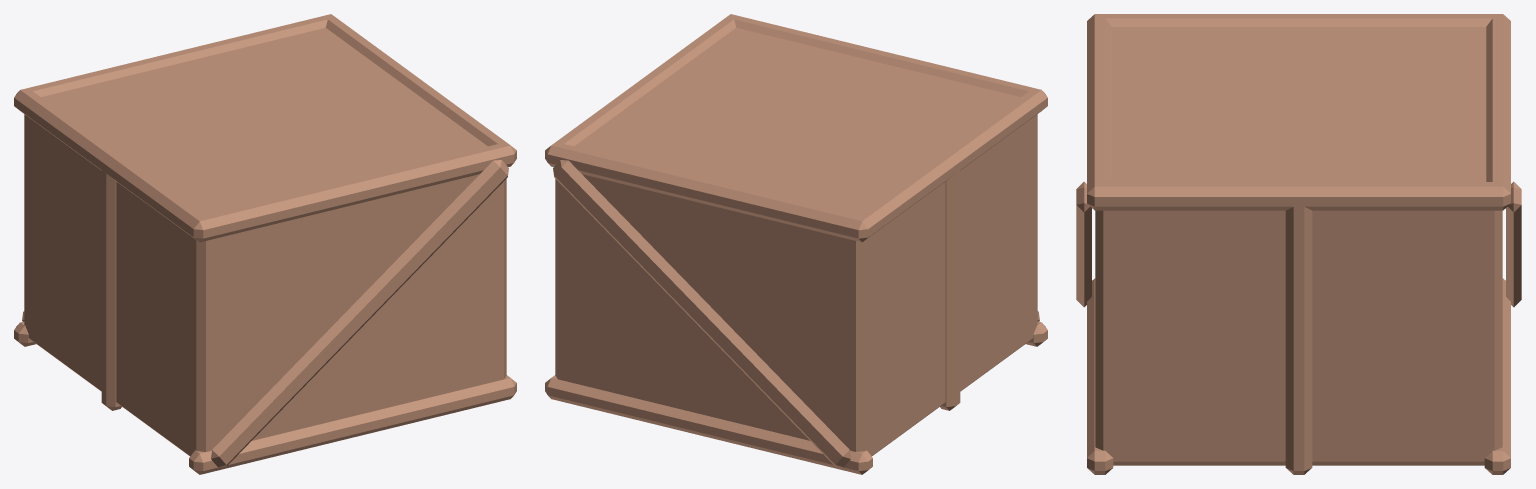
Rendered from SM_Crate_1p6x1p2x1p6.glb.
The picture shows the model from 3 angles, left to right: view 1: azimuth 30°, elevation 25°; view 2: azimuth 150°, elevation 25°; view 3: azimuth 270°, elevation 25°; orthographic projection. The views are drawn at different scales.
Parts seen in each view (by area): view 1: SM_Crate_1p6x1p2x1p6; view 2: SM_Crate_1p6x1p2x1p6; view 3: SM_Crate_1p6x1p2x1p6.
Boxes of the visible parts, <box> form: SM_Crate_1p6x1p2x1p6: <box>14,14,516,474</box>; SM_Crate_1p6x1p2x1p6: <box>545,14,1047,474</box>; SM_Crate_1p6x1p2x1p6: <box>1076,14,1521,474</box>.
Size of the model in its own units: 1.6 by 1.2 by 1.68.
